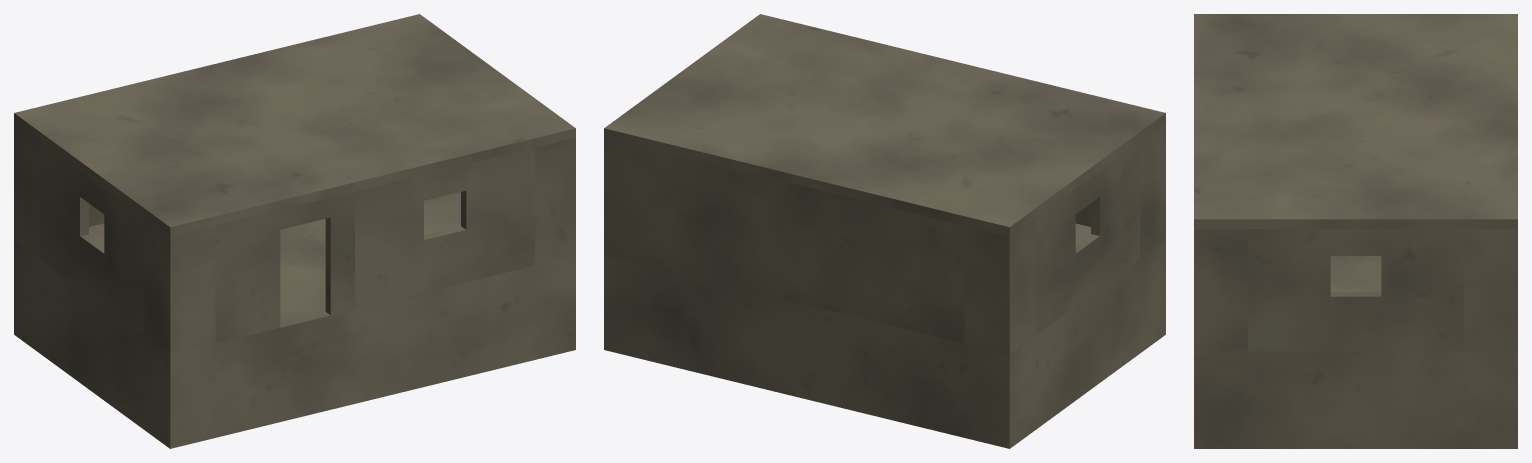
The model's file is House2.fbx.
The picture shows the model from 3 angles, left to right: view 1: azimuth 30°, elevation 25°; view 2: azimuth 150°, elevation 25°; view 3: azimuth 270°, elevation 25°; orthographic projection. The views are drawn at different scales.
Visible parts, largest first — view 1: Cube.035; view 2: Cube.035; view 3: Cube.035.
Boxes of the visible parts, x1=… form: Cube.035: x1=14, y1=14, x2=575, y2=448; Cube.035: x1=604, y1=14, x2=1165, y2=448; Cube.035: x1=1194, y1=14, x2=1517, y2=448.
Size of the model in its own units: 900 by 470 by 600.
